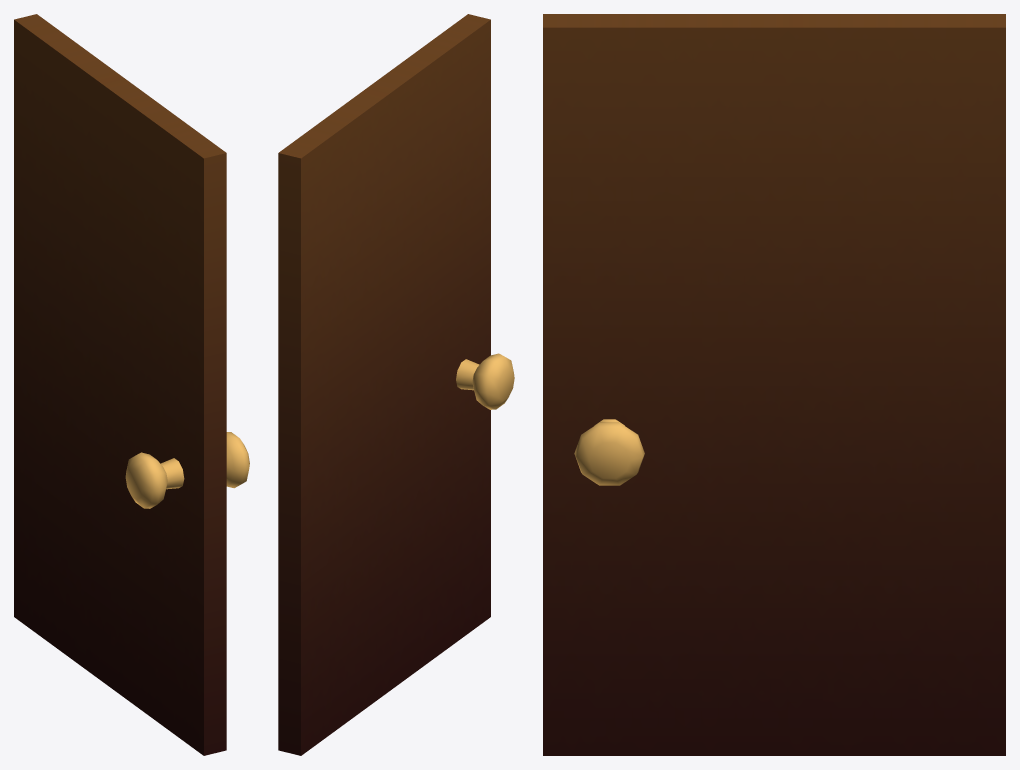
The model's file is Door.fbx.
3 views of the same model, side by side, from view 1: azimuth 30°, elevation 25°; view 2: azimuth 150°, elevation 25°; view 3: azimuth 270°, elevation 25° (orthographic). The views are drawn at different scales.
Visible parts, largest first — view 1: Door; view 2: Door; view 3: Door.
Boxes of the visible parts, bbox=[...] form: Door: bbox=[14, 14, 249, 755]; Door: bbox=[278, 14, 514, 755]; Door: bbox=[543, 14, 1005, 755].
Bounding box in the file's own units: 47.09 × 144 × 250.
